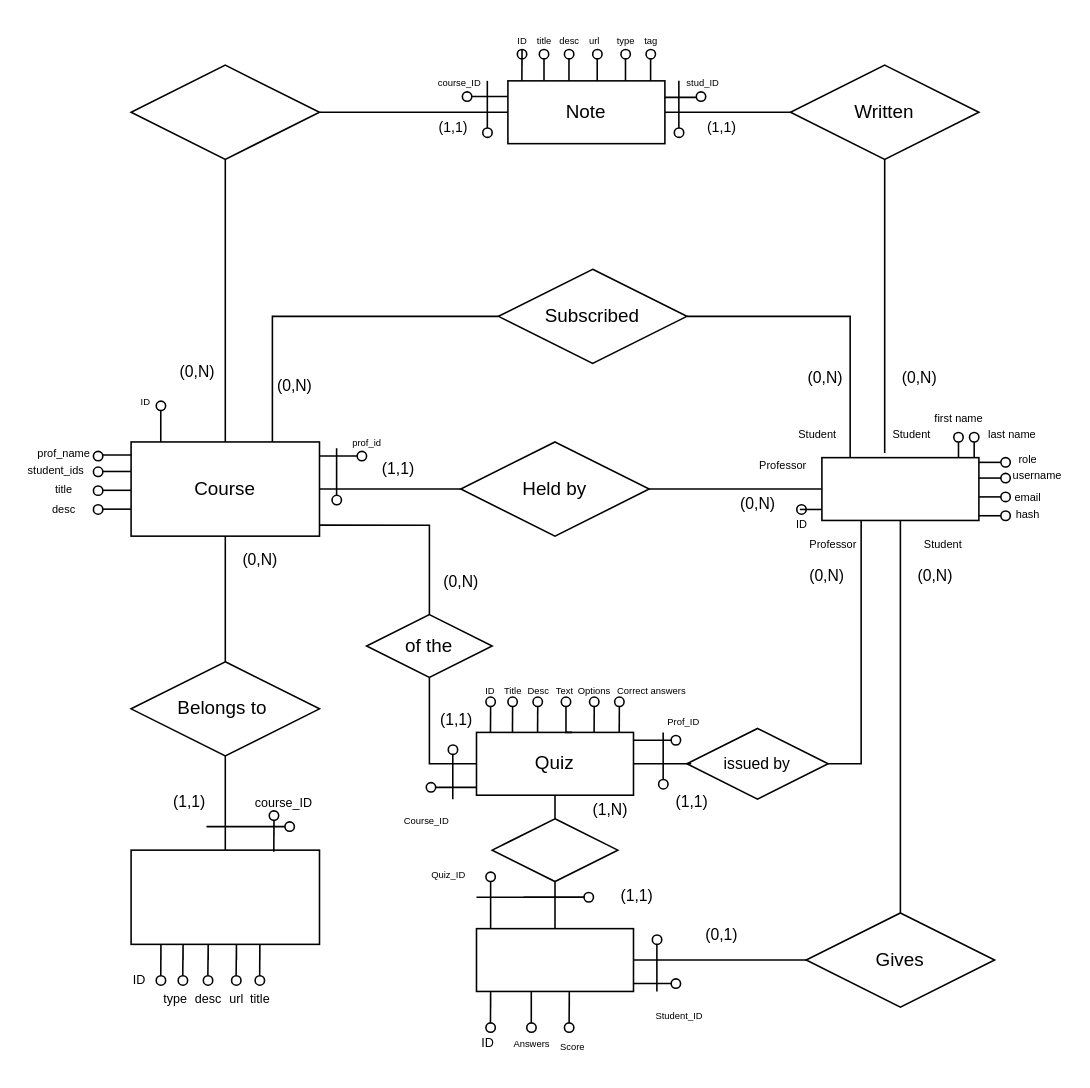
The diagram is 1090 pixels wide and 1088 high, and some of its shapes have lost their labels. Here are the shapes that lost their labels. From the top down, the centre of each, then its label:
At (224,111): "About".
At (899,488): "User".
At (554,849): "of".
At (224,896): "Course Material".
At (554,959): "Quiz Answers".
